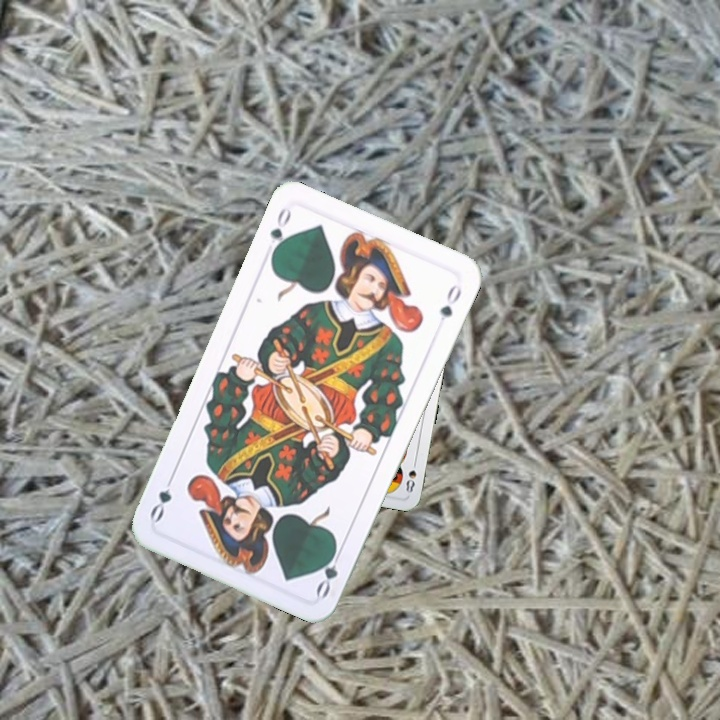GO: (312, 541, 346, 600), (265, 203, 294, 261)
S8: (402, 455, 420, 495)
